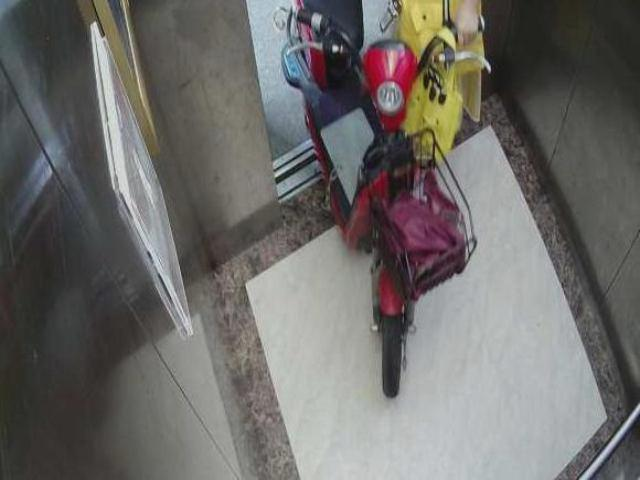emotor: (279, 2, 462, 405)
